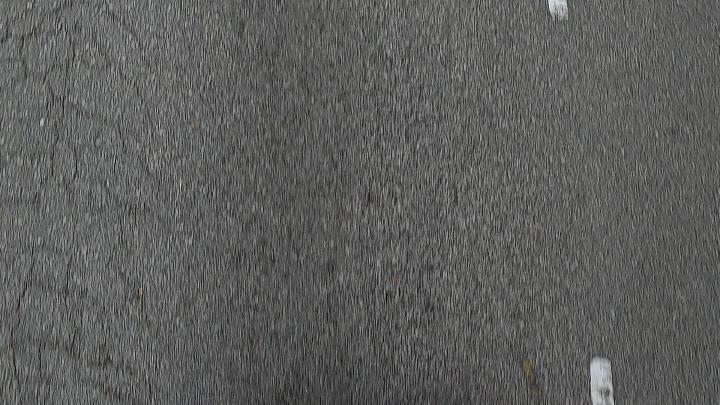Crack: (0, 0, 141, 374), (7, 0, 124, 376), (66, 25, 144, 81)
Lane: (578, 351, 618, 403), (590, 357, 614, 404), (546, 0, 570, 18), (547, 0, 567, 17)
